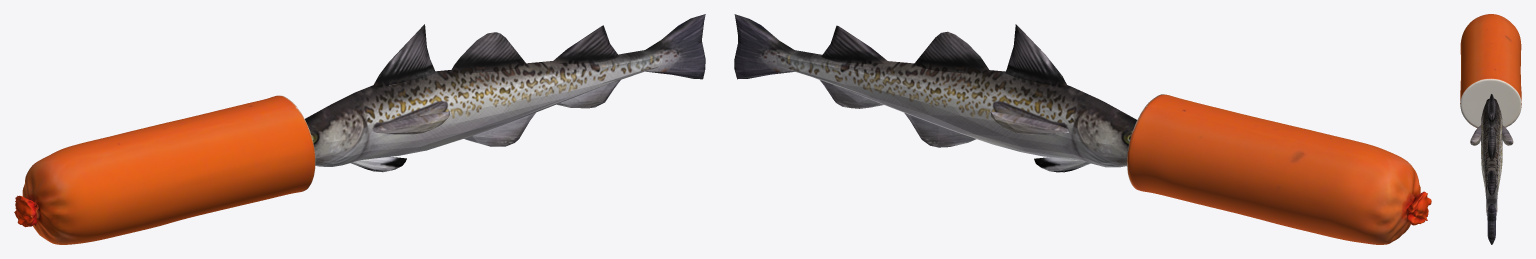
The model's file is SausageFish.glb.
The picture shows the model from 3 angles, left to right: view 1: azimuth 30°, elevation 25°; view 2: azimuth 150°, elevation 25°; view 3: azimuth 270°, elevation 25°; orthographic projection. The views are drawn at different scales.
Visible parts, largest first — view 1: Base_Texture.001, Mesh_0; view 2: Base_Texture.001, Mesh_0; view 3: Mesh_0, Base_Texture.001.
Part boxes in pixels (x1=…): Base_Texture.001: x1=305, y1=14, x2=705, y2=172; Mesh_0: x1=14, y1=95, x2=315, y2=244; Base_Texture.001: x1=734, y1=14, x2=1136, y2=172; Mesh_0: x1=1127, y1=94, x2=1431, y2=244; Mesh_0: x1=1460, y1=14, x2=1521, y2=128; Base_Texture.001: x1=1470, y1=94, x2=1513, y2=244.
Bounding box in the file's own units: 10.12 × 1.99 × 1.34.
Materials: 2 (2 with a texture image).
